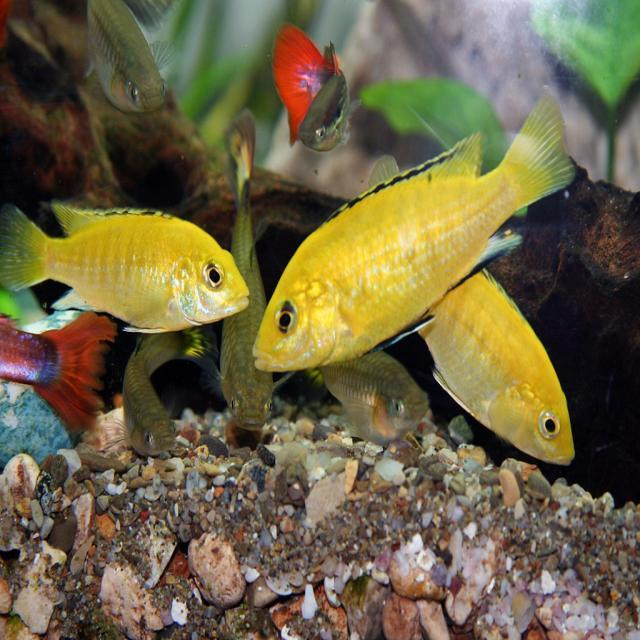YellowCichlid: (255, 127, 571, 386), (2, 187, 250, 356), (436, 270, 590, 492)
